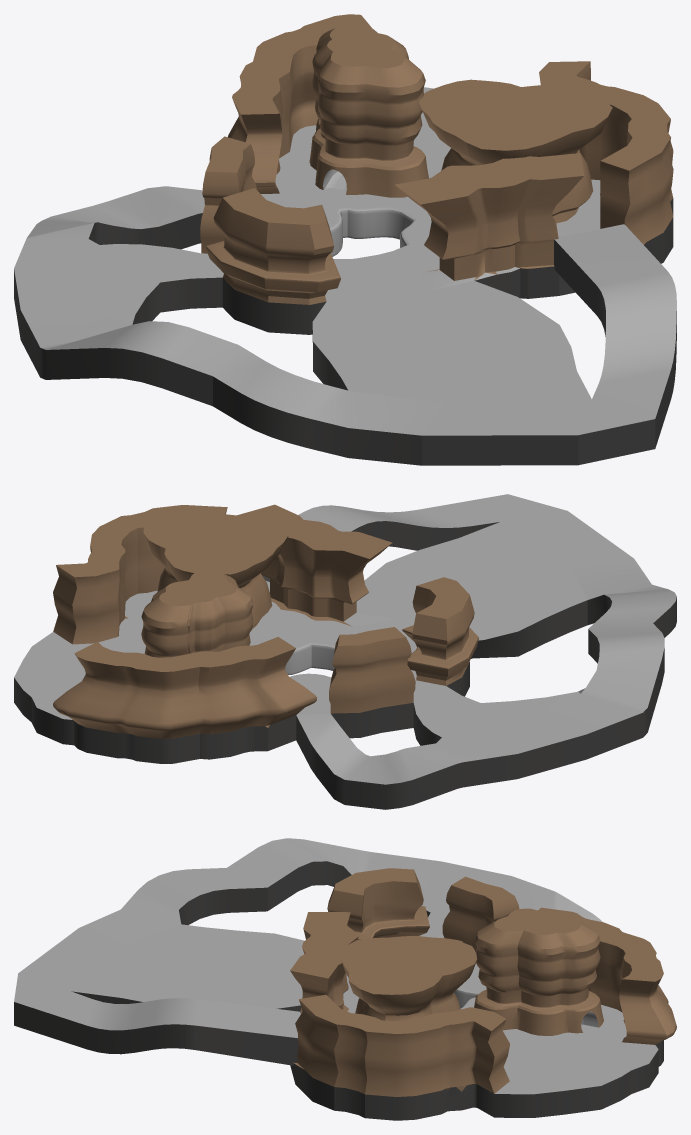
The model's file is Modo_Piste2.fbx.
3 renders of one model, top to bottom at view 1: azimuth 30°, elevation 25°; view 2: azimuth 150°, elevation 25°; view 3: azimuth 270°, elevation 25°, orthographic. The views are drawn at different scales.
Visible parts, largest first — view 1: pCube5, Montagne_Tunel2, pCube3; view 2: pCube5, pCube3, Montagne_Tunel2; view 3: pCube5, Montagne_Tunel2, pCube3.
Part boxes in pixels (<box>): pCube5: <box>14,14,676,465</box>; Montagne_Tunel2: <box>309,25,428,197</box>; pCube3: <box>419,79,612,223</box>; pCube5: <box>14,494,676,809</box>; pCube3: <box>143,509,288,631</box>; Montagne_Tunel2: <box>141,570,253,657</box>; pCube5: <box>14,838,676,1120</box>; Montagne_Tunel2: <box>474,908,603,1035</box>; pCube3: <box>340,936,477,1021</box>.
Bounding box in the file's own units: 111 × 28.01 × 127.
